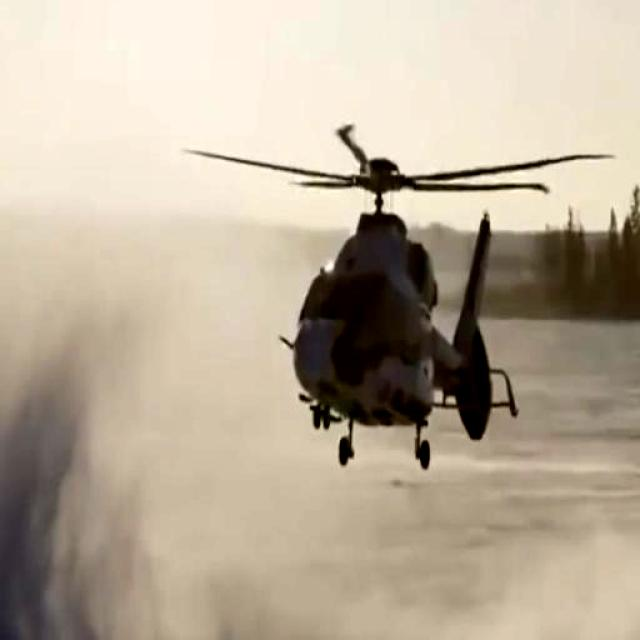drone: (221, 90, 575, 482)
